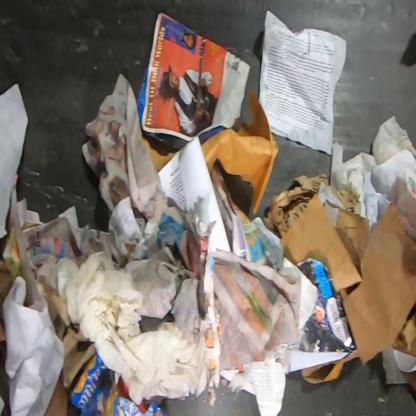cardboard: (342, 204, 415, 367), (279, 182, 370, 302), (0, 267, 16, 343)
soft_plastic: (69, 352, 169, 415)
